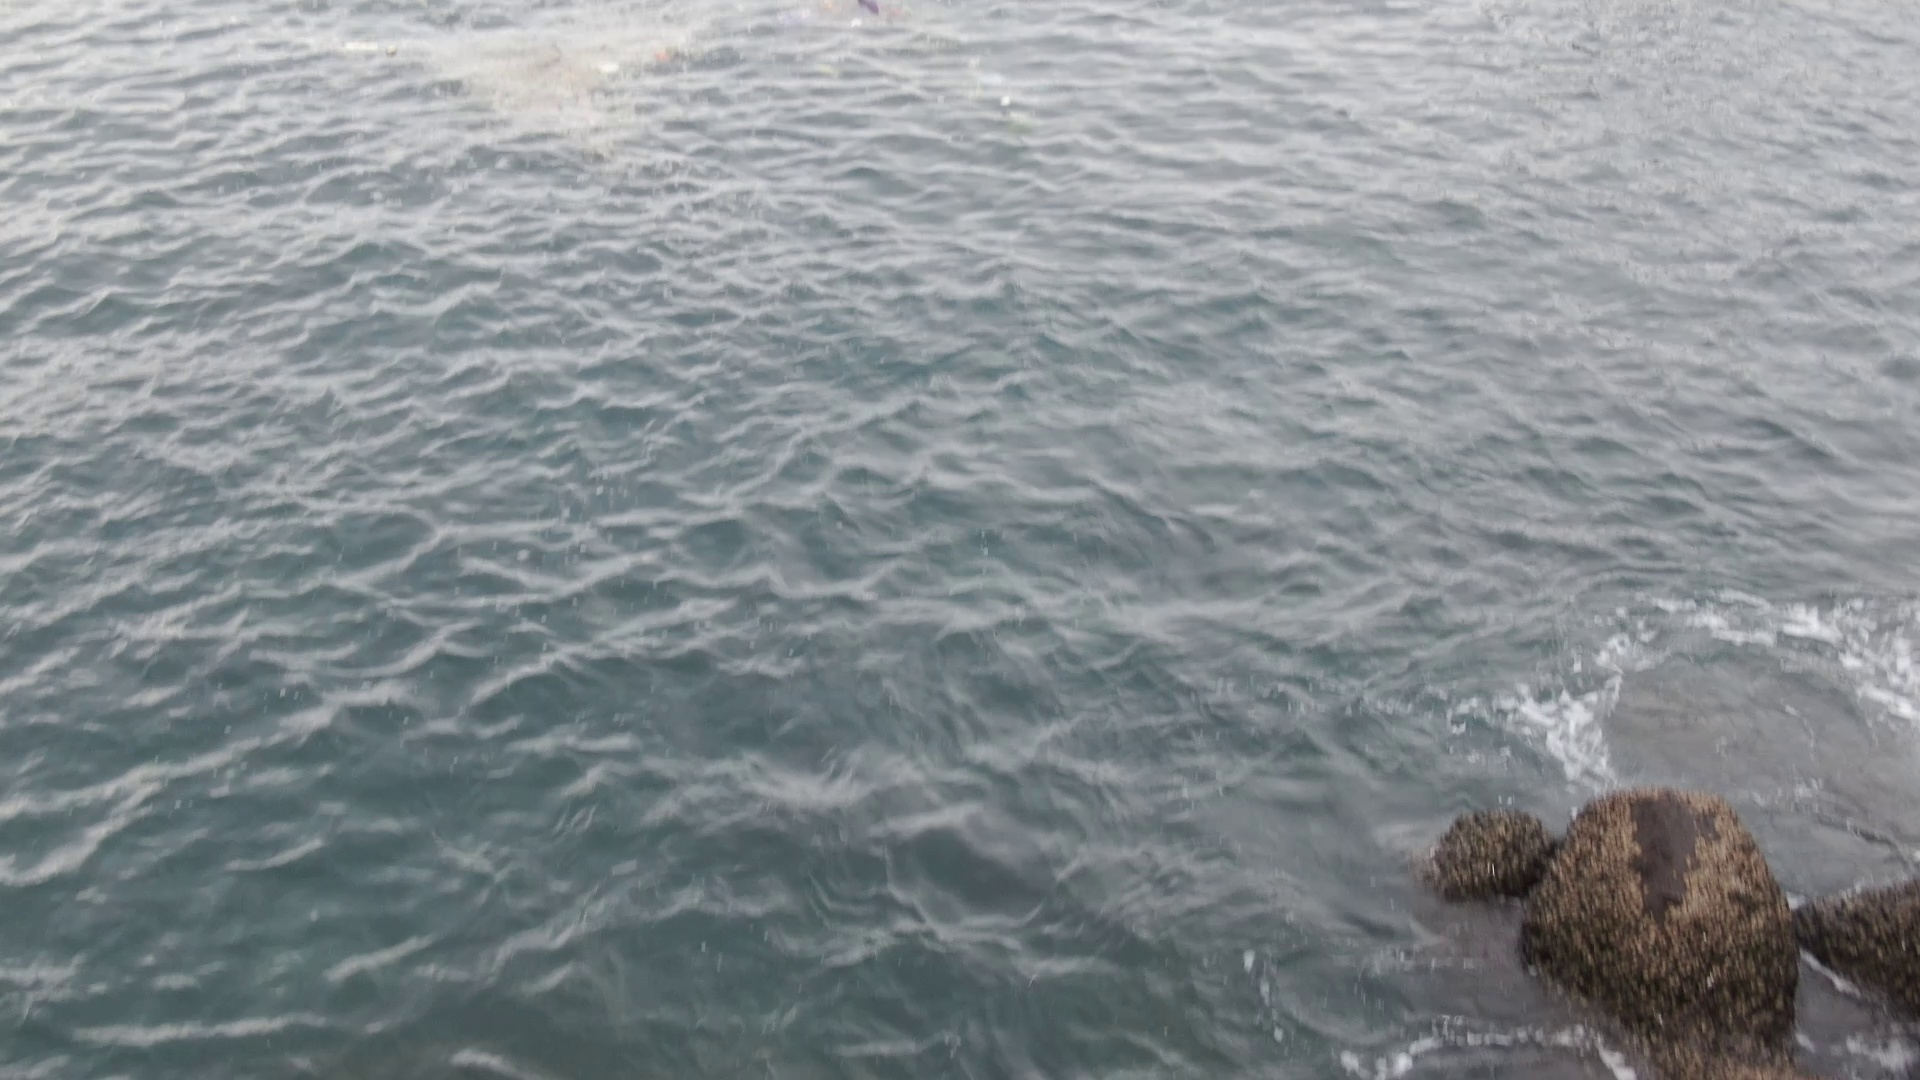garbage: (411, 3, 686, 145), (795, 3, 903, 36)
